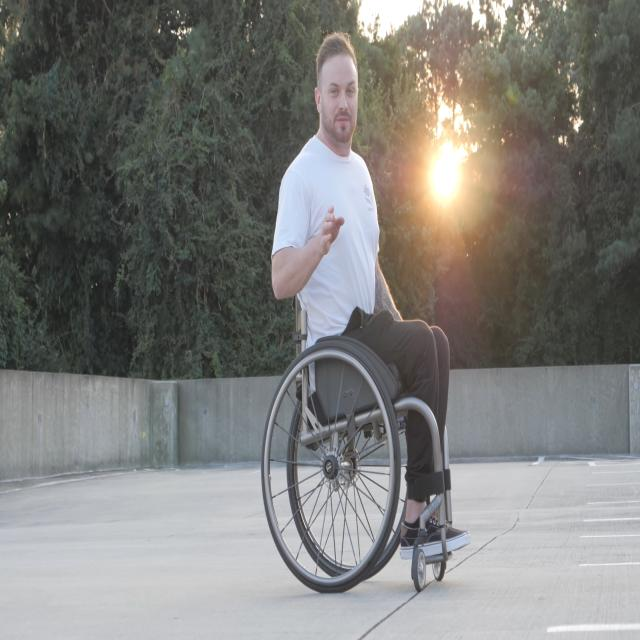wheelchairs: (261, 258, 454, 598)
